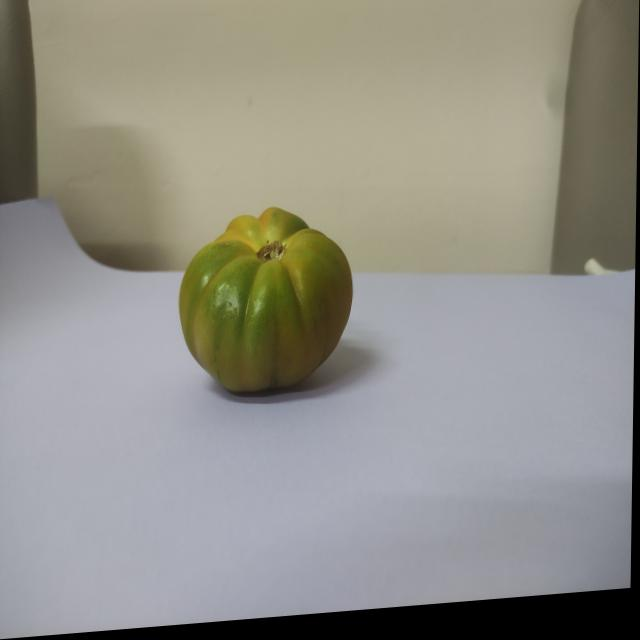yesil: (160, 180, 380, 414)
